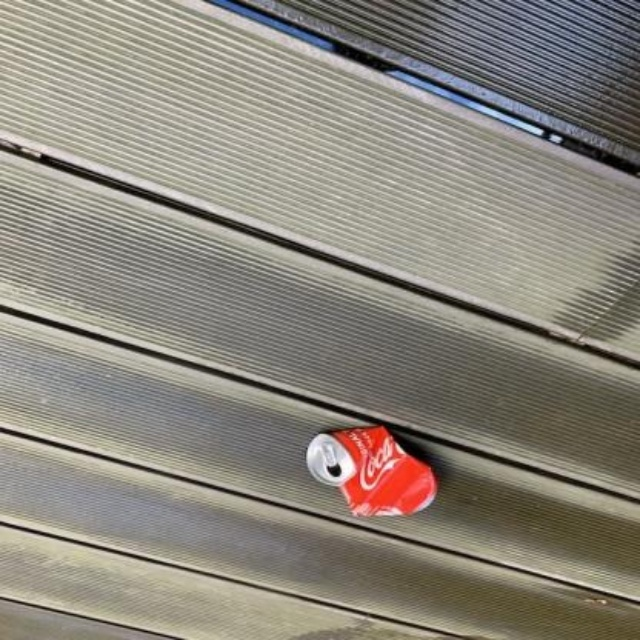trash: (306, 426, 435, 515)
